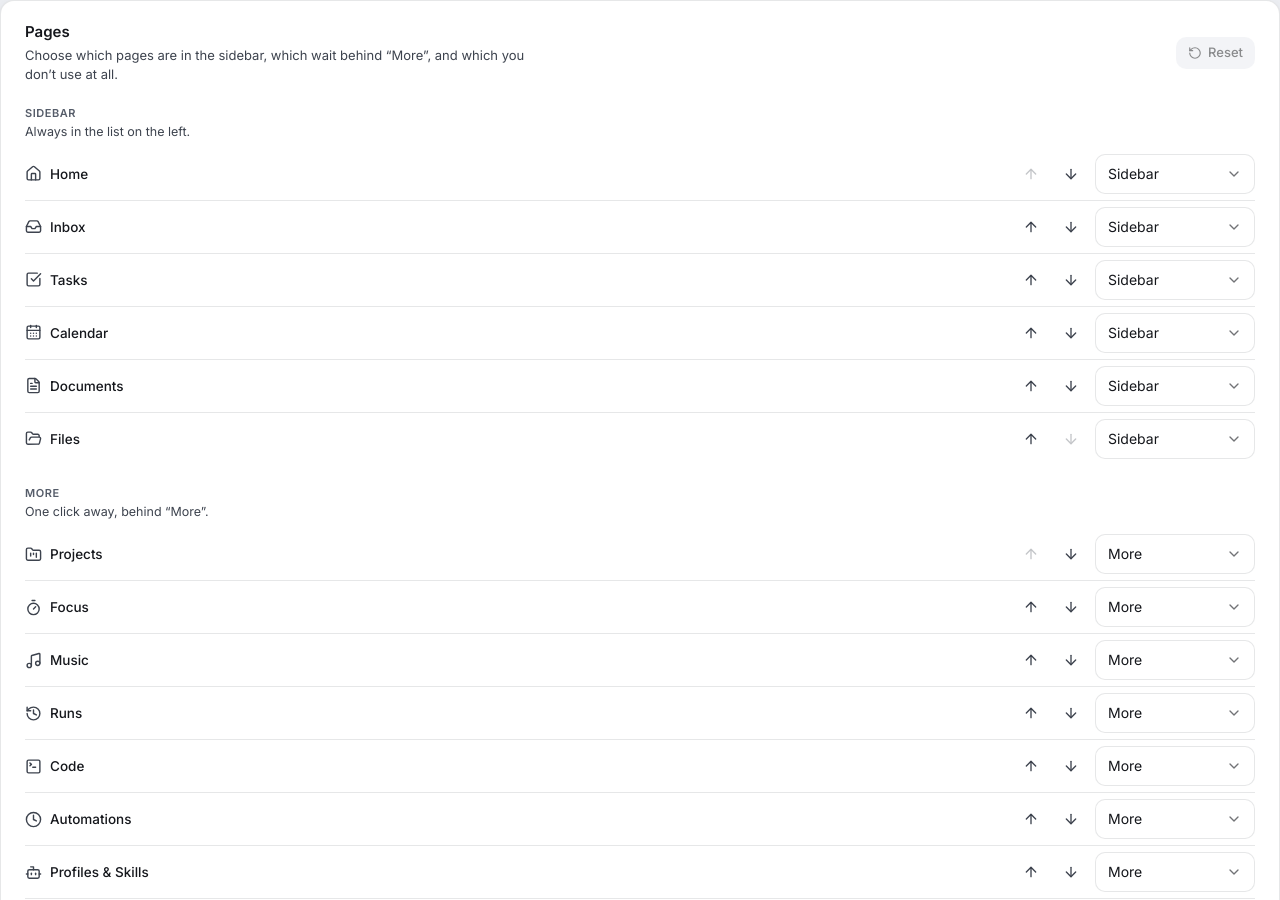
it: Settings > Pages › turns a page off, and offers no “Off” for Home and the Inbox
Click the dropdown named "Where Music goes" at (1175, 660), box [1095,640,1255,680]
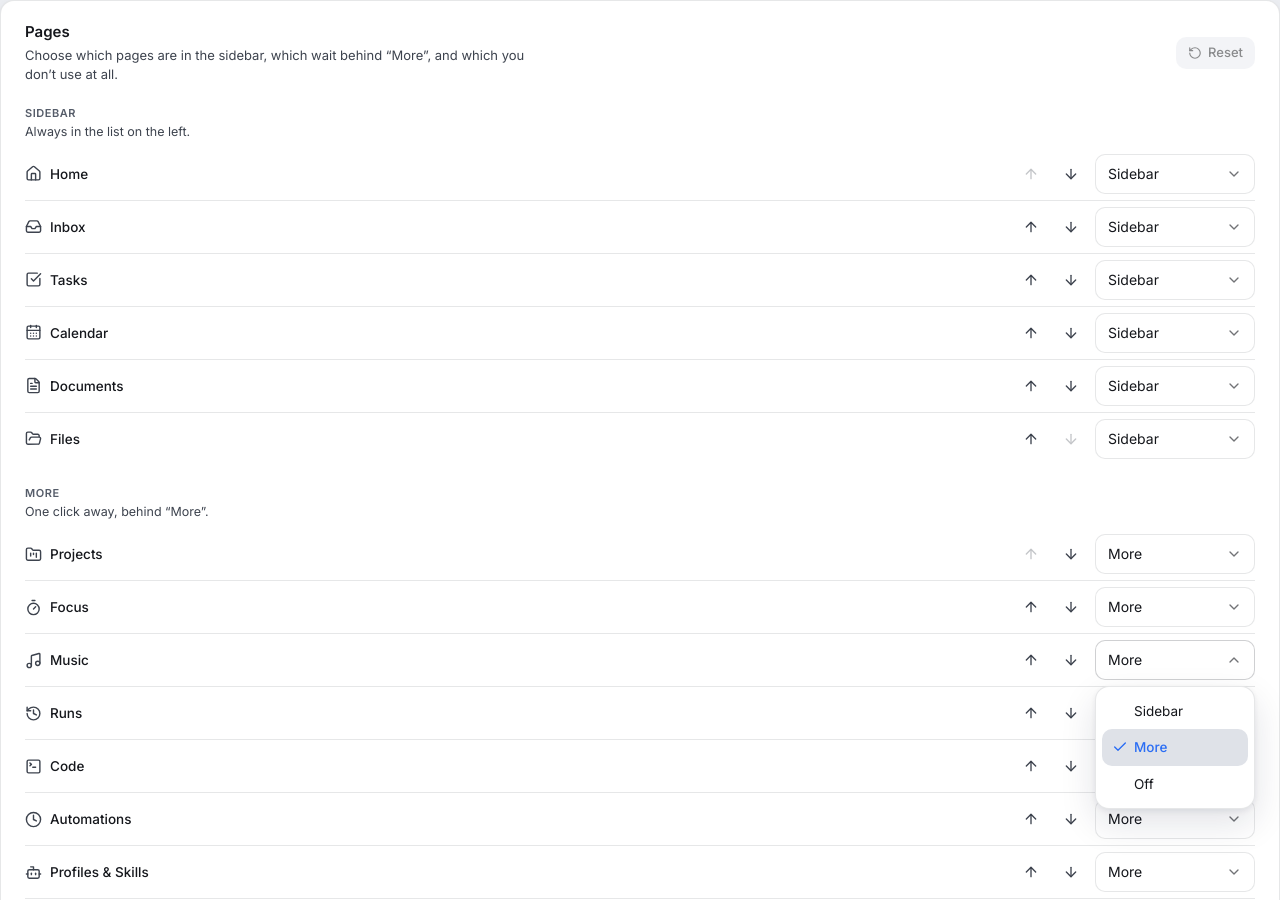
Click the option "Off" at (1144, 784), box [1134,776,1154,792]
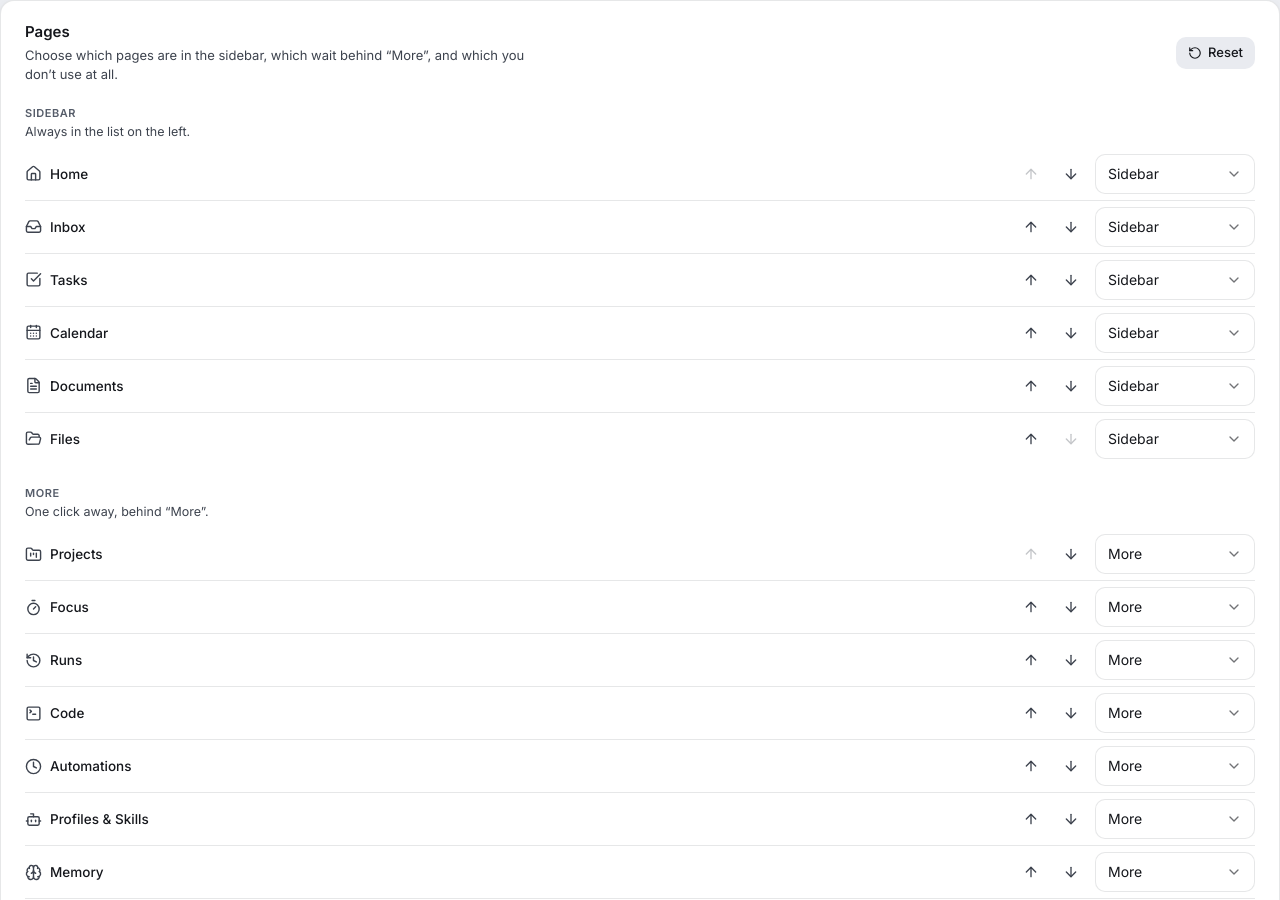
Click the dropdown named "Where Inbox goes" at (1175, 227), box [1095,207,1255,247]
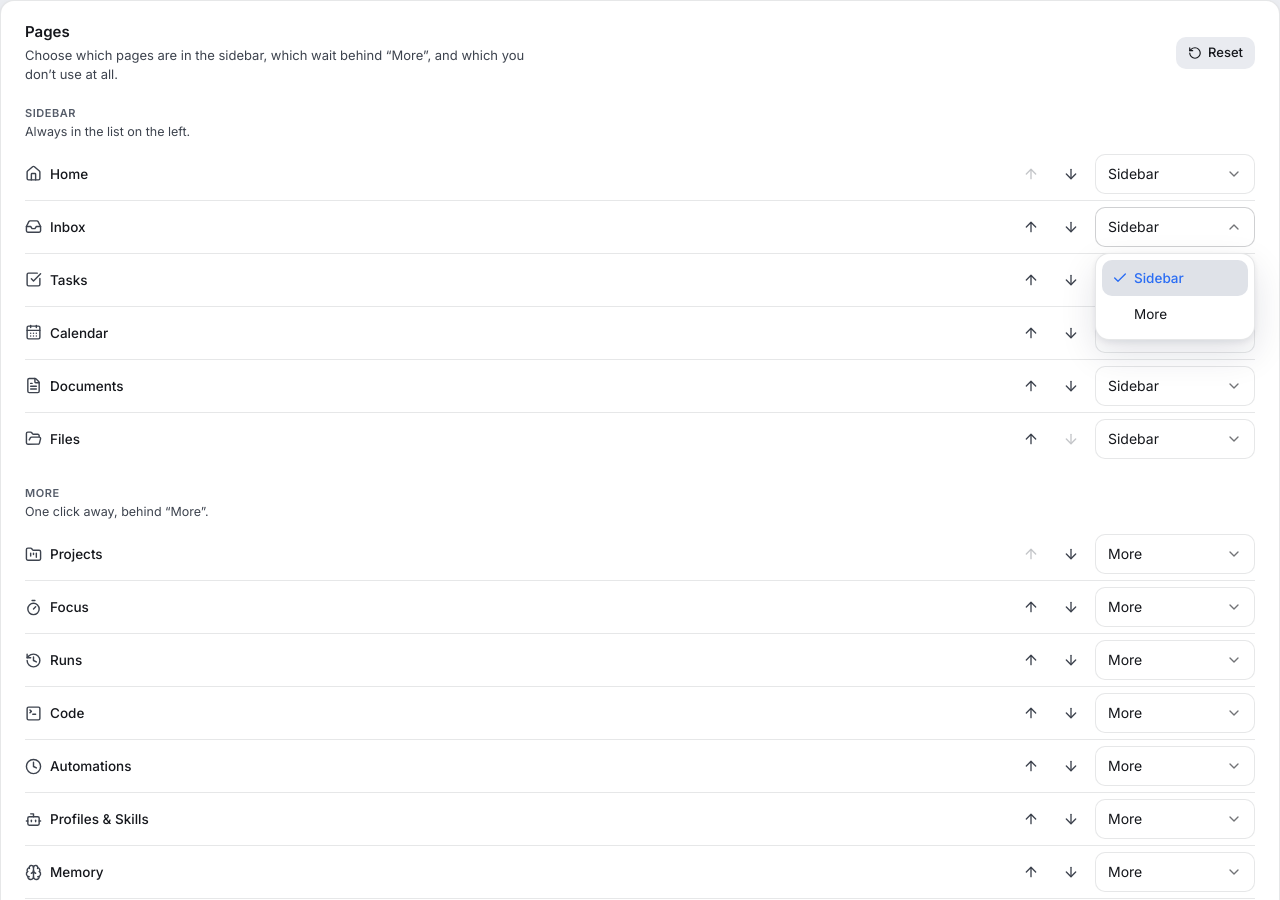
Expected: the option "Off" is not shown
Expected: the option "More" is shown, [1134,306,1167,322]
